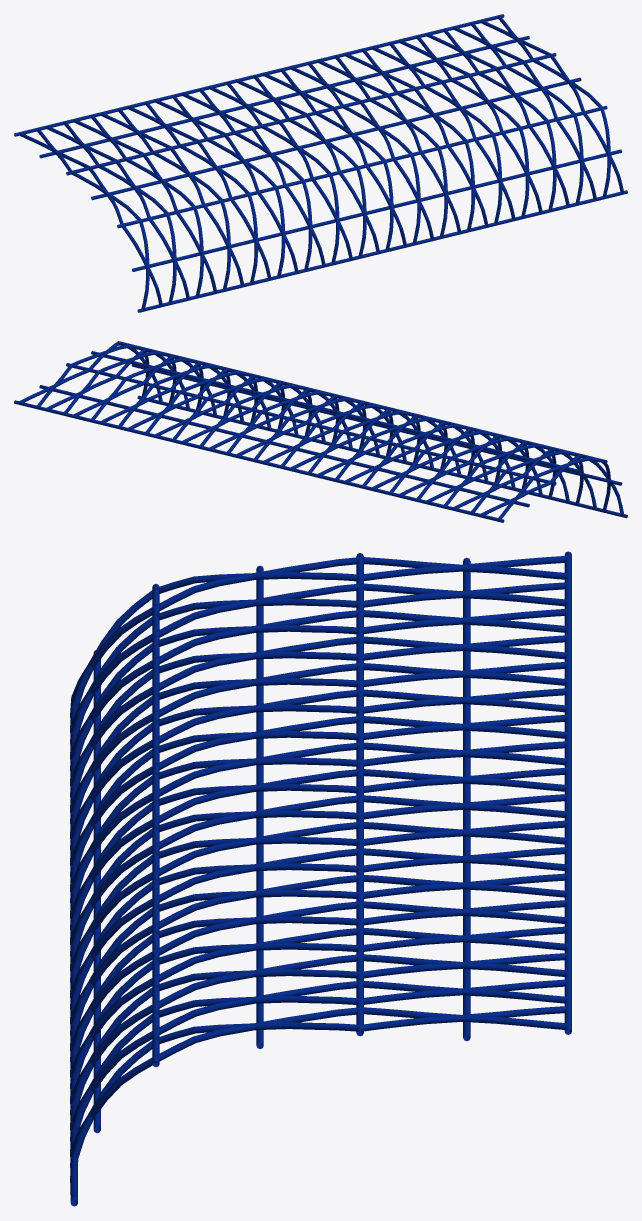
The model's file is diamond_beams 2.fbx.
The picture shows the model from 3 angles, top to bottom: view 1: azimuth 30°, elevation 25°; view 2: azimuth 150°, elevation 25°; view 3: azimuth 270°, elevation 25°; orthographic projection. The views are drawn at different scales.
Visible parts, largest first — view 1: Vert.001; view 2: Vert.001; view 3: Vert.001.
Boxes of the visible parts, left/top/right/bottom form: Vert.001: left=14, top=14, right=627, bottom=312; Vert.001: left=14, top=341, right=627, bottom=522; Vert.001: left=70, top=551, right=571, bottom=1206.
Size of the model in its own units: 13731 by 2402 by 6108.
